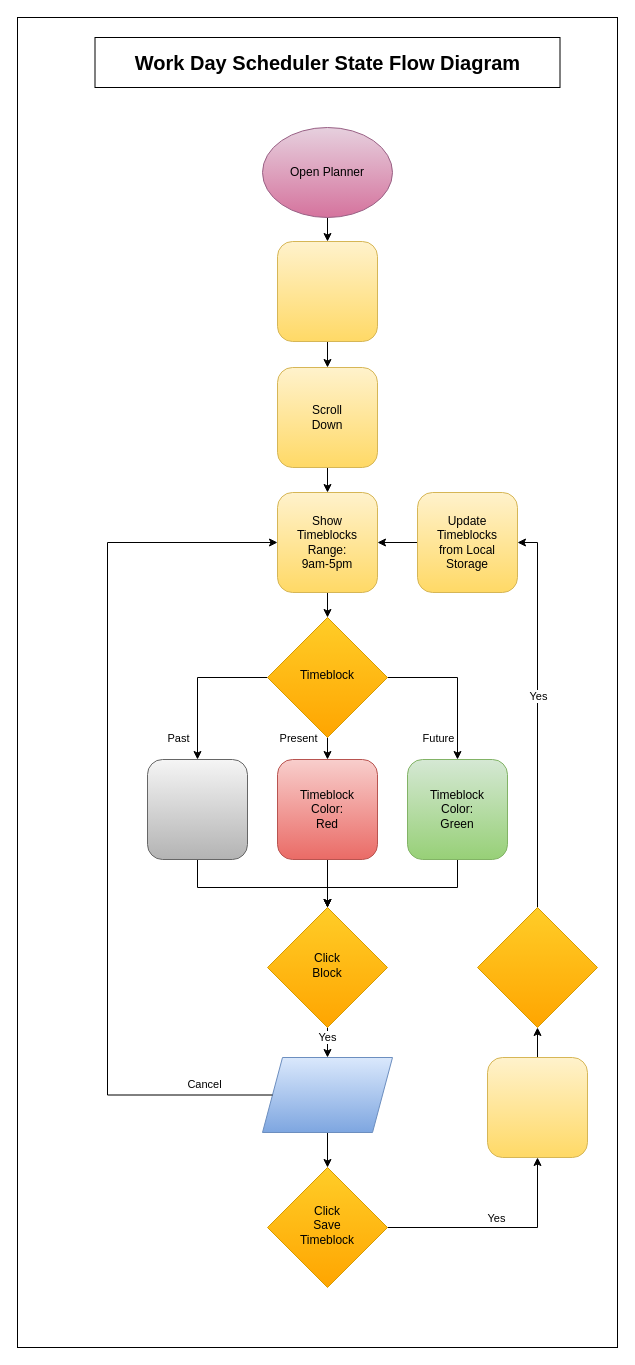
Some shapes in this 635 by 1365 pixel diagram are drawn without their labels. Here are the shapes that lost their labels. From the top down, the box of each, then its label:
(276, 240, 378, 342): Display Current Day Display at Top
(146, 758, 248, 860): Timeblock Color: Grey
(476, 906, 598, 1028): Click Refresh Page
(262, 1056, 392, 1132): Edit Timeblock
(486, 1056, 588, 1158): Save Local Storage
